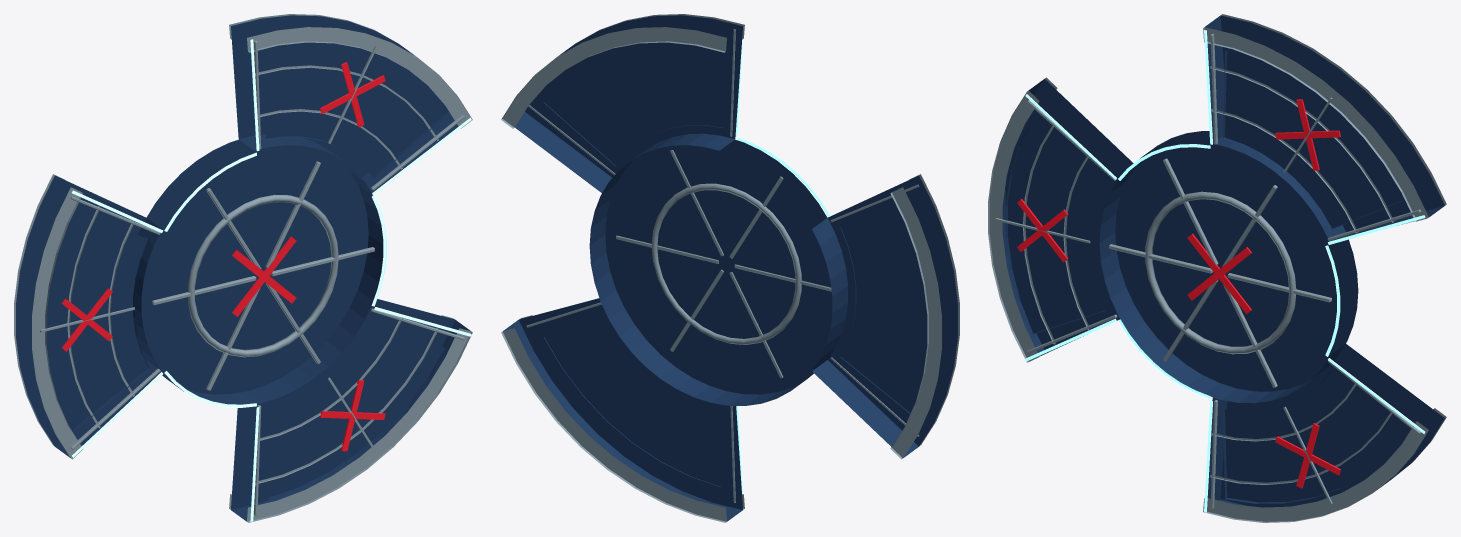
File: foundry-panel-fun3-medium.glb
The picture shows the model from 3 angles, left to right: view 1: azimuth 30°, elevation 25°; view 2: azimuth 150°, elevation 25°; view 3: azimuth 330°, elevation 25°; orthographic projection.
Parts seen in each view (by area): view 1: RENDER_PANEL_SHELL, RENDER_PANEL_FRAME, RENDER_PANEL_HAZARD, RENDER_PANEL_SIGNAL; view 2: RENDER_PANEL_SHELL, RENDER_PANEL_FRAME, RENDER_PANEL_SIGNAL; view 3: RENDER_PANEL_SHELL, RENDER_PANEL_FRAME, RENDER_PANEL_HAZARD, RENDER_PANEL_SIGNAL.
Part boxes in pixels (box(x1,y1,x2,y2)): RENDER_PANEL_SHELL: box(16, 15, 470, 521); RENDER_PANEL_FRAME: box(14, 14, 472, 522); RENDER_PANEL_HAZARD: box(62, 62, 385, 451); RENDER_PANEL_SIGNAL: box(72, 39, 471, 521); RENDER_PANEL_SHELL: box(503, 15, 957, 521); RENDER_PANEL_FRAME: box(501, 14, 959, 522); RENDER_PANEL_SIGNAL: box(562, 39, 853, 494); RENDER_PANEL_SHELL: box(1002, 15, 1444, 507); RENDER_PANEL_FRAME: box(988, 14, 1446, 522); RENDER_PANEL_HAZARD: box(1017, 99, 1340, 488); RENDER_PANEL_SIGNAL: box(1025, 30, 1425, 512).
Size of what is drawn, in the model's own units: 38.88 by 40.91 by 3.09.
